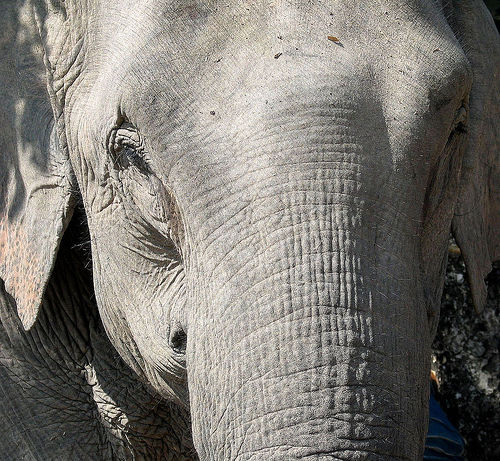elephant: (1, 1, 495, 461)
